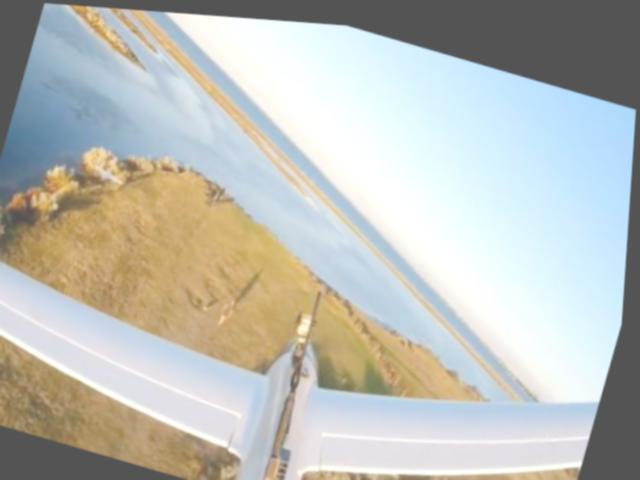uav: (84, 151, 134, 195)
